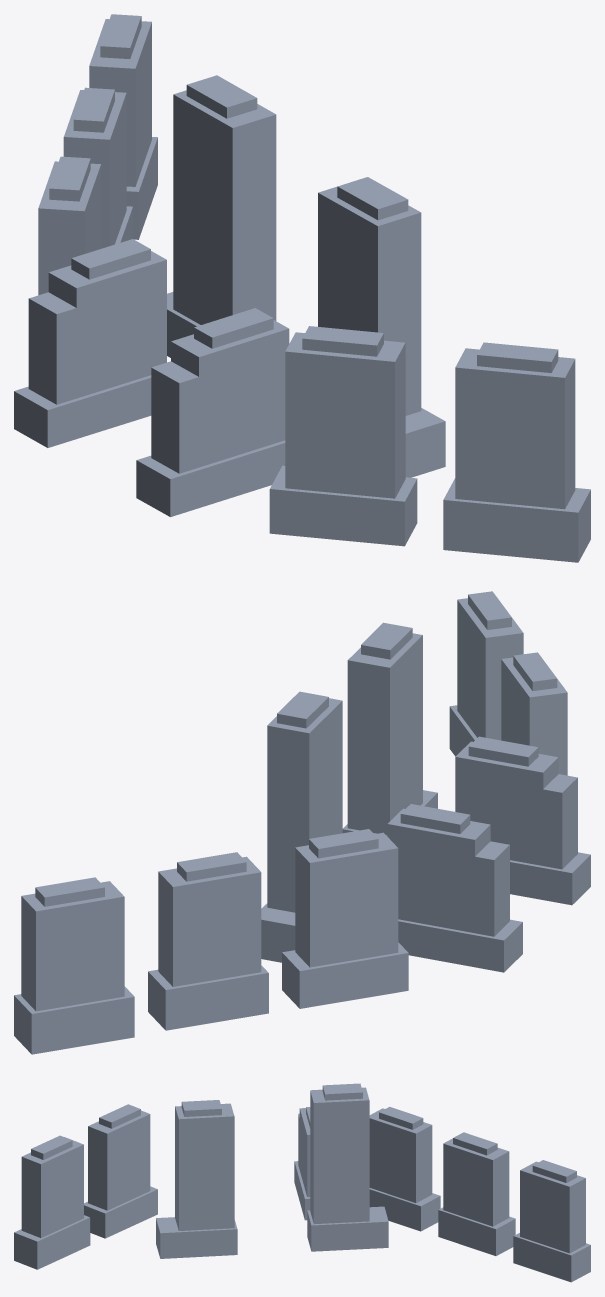
Rendered from emtc-northwest-2026-settlement.glb.
3 views of the same model, one above another, from view 1: azimuth 30°, elevation 25°; view 2: azimuth 150°, elevation 25°; view 3: azimuth 270°, elevation 25° (orthographic). The views are drawn at different scales.
Visible parts, largest first — view 1: EMTC2026-A, EMTC2026-B, EMTC2026-H, EMTC2026-C, EMTC2026-D, EMTC2026-G, EMTC2026-F2, EMTC2026-F1, EMTC2026-E; view 2: EMTC2026-E, EMTC2026-F1, EMTC2026-F2, EMTC2026-D, EMTC2026-C, EMTC2026-G, EMTC2026-H, EMTC2026-A, EMTC2026-B; view 3: EMTC2026-H, EMTC2026-G, EMTC2026-A, EMTC2026-B, EMTC2026-F1, EMTC2026-F2, EMTC2026-E, EMTC2026-D.
Part boxes in pixels (x1=…): EMTC2026-A: x1=443, y1=342, x2=590, y2=562; EMTC2026-B: x1=269, y1=326, x2=417, y2=546; EMTC2026-H: x1=167, y1=75, x2=276, y2=357; EMTC2026-C: x1=136, y1=308, x2=289, y2=517; EMTC2026-D: x1=14, y1=239, x2=166, y2=447; EMTC2026-G: x1=318, y1=177, x2=445, y2=477; EMTC2026-F2: x1=89, y1=14, x2=157, y2=239; EMTC2026-F1: x1=63, y1=87, x2=132, y2=248; EMTC2026-E: x1=38, y1=156, x2=100, y2=295; EMTC2026-E: x1=282, y1=829, x2=408, y2=1008; EMTC2026-F1: x1=148, y1=852, x2=268, y2=1030; EMTC2026-F2: x1=14, y1=877, x2=134, y2=1054; EMTC2026-D: x1=387, y1=804, x2=522, y2=972; EMTC2026-C: x1=455, y1=736, x2=590, y2=905; EMTC2026-G: x1=342, y1=622, x2=437, y2=835; EMTC2026-H: x1=261, y1=691, x2=342, y2=962; EMTC2026-A: x1=449, y1=591, x2=523, y2=756; EMTC2026-B: x1=501, y1=652, x2=567, y2=775; EMTC2026-H: x1=307, y1=1083, x2=388, y2=1251; EMTC2026-G: x1=156, y1=1100, x2=237, y2=1258; EMTC2026-A: x1=14, y1=1135, x2=90, y2=1269; EMTC2026-B: x1=84, y1=1104, x2=157, y2=1238; EMTC2026-F1: x1=438, y1=1132, x2=515, y2=1255; EMTC2026-F2: x1=513, y1=1160, x2=590, y2=1282; EMTC2026-E: x1=369, y1=1106, x2=440, y2=1231; EMTC2026-D: x1=294, y1=1107, x2=310, y2=1220.
Bounding box in the file's own units: 169 × 123 × 415.
